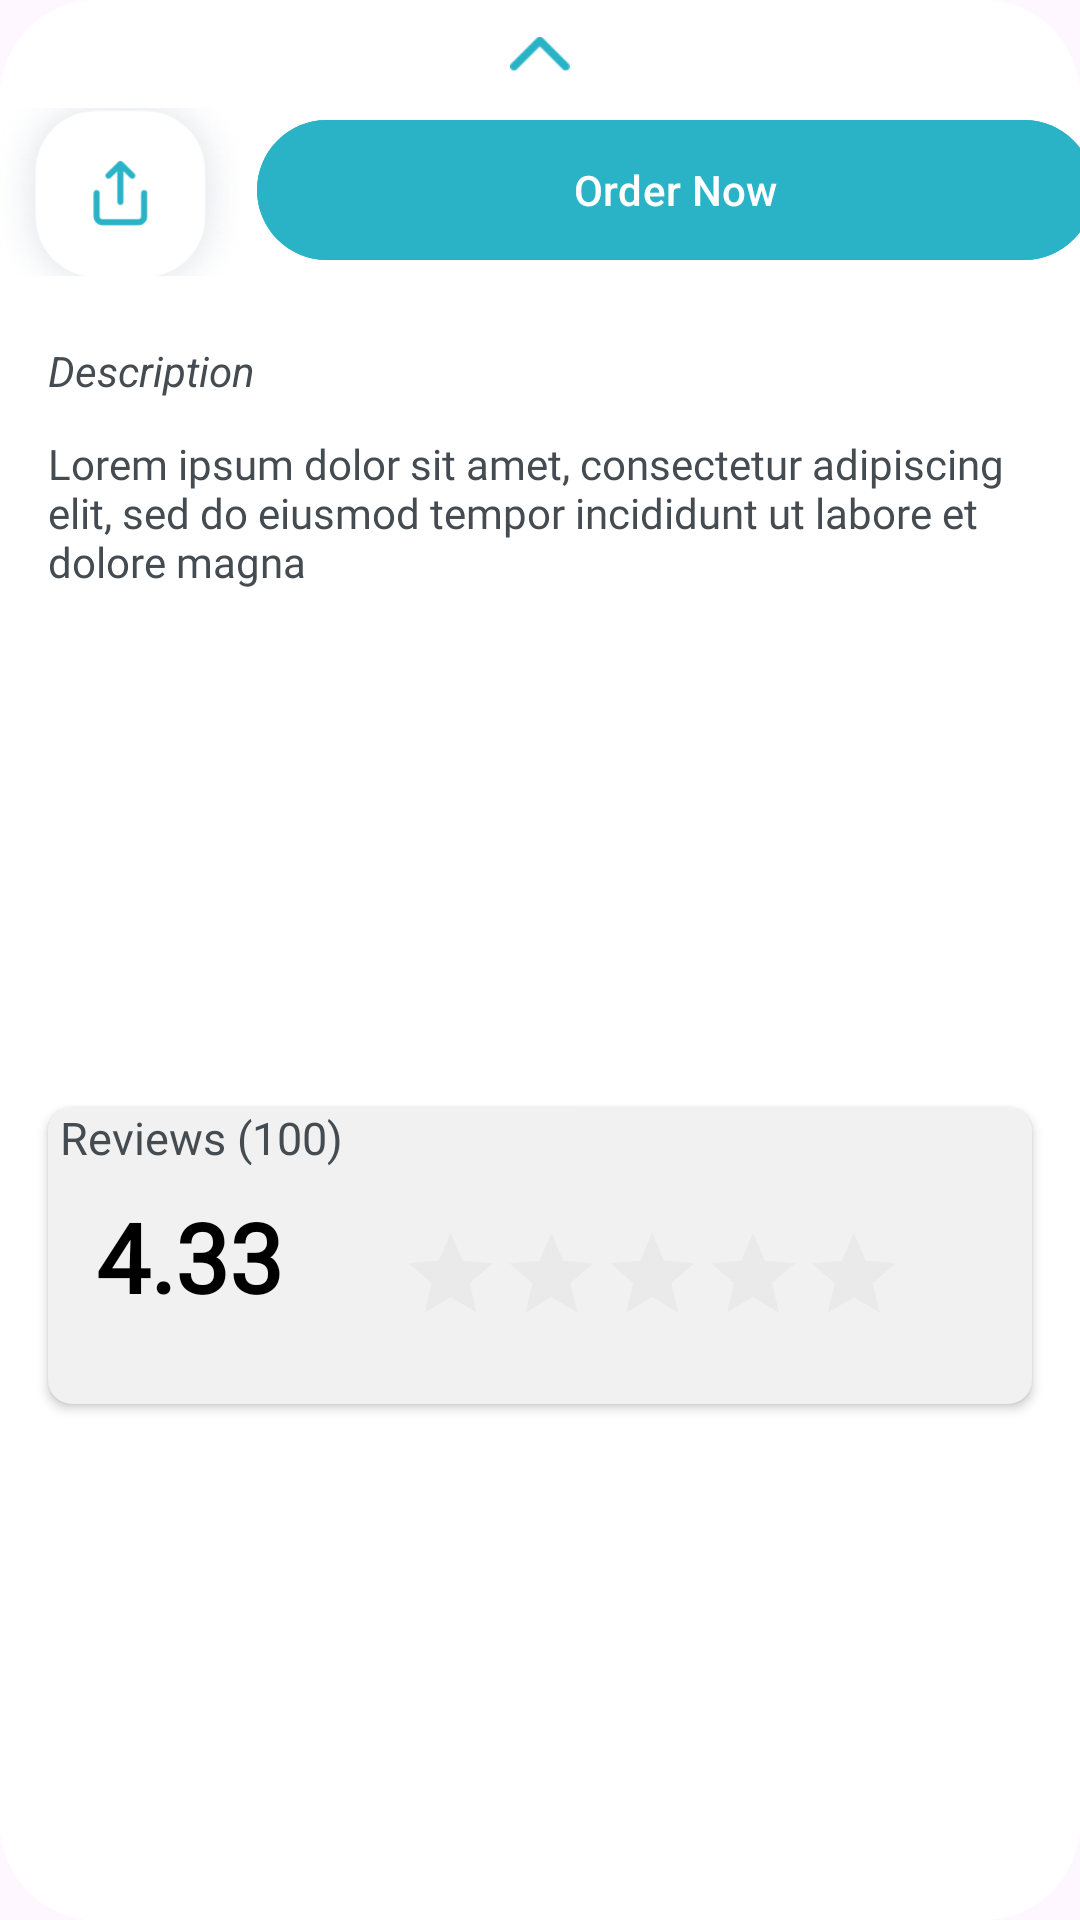

Icons on this 1080 × 1920 Android screen, each with the point to tap as [x,y]:
moredetails: [540,54]
sharebutton: [120,193]
